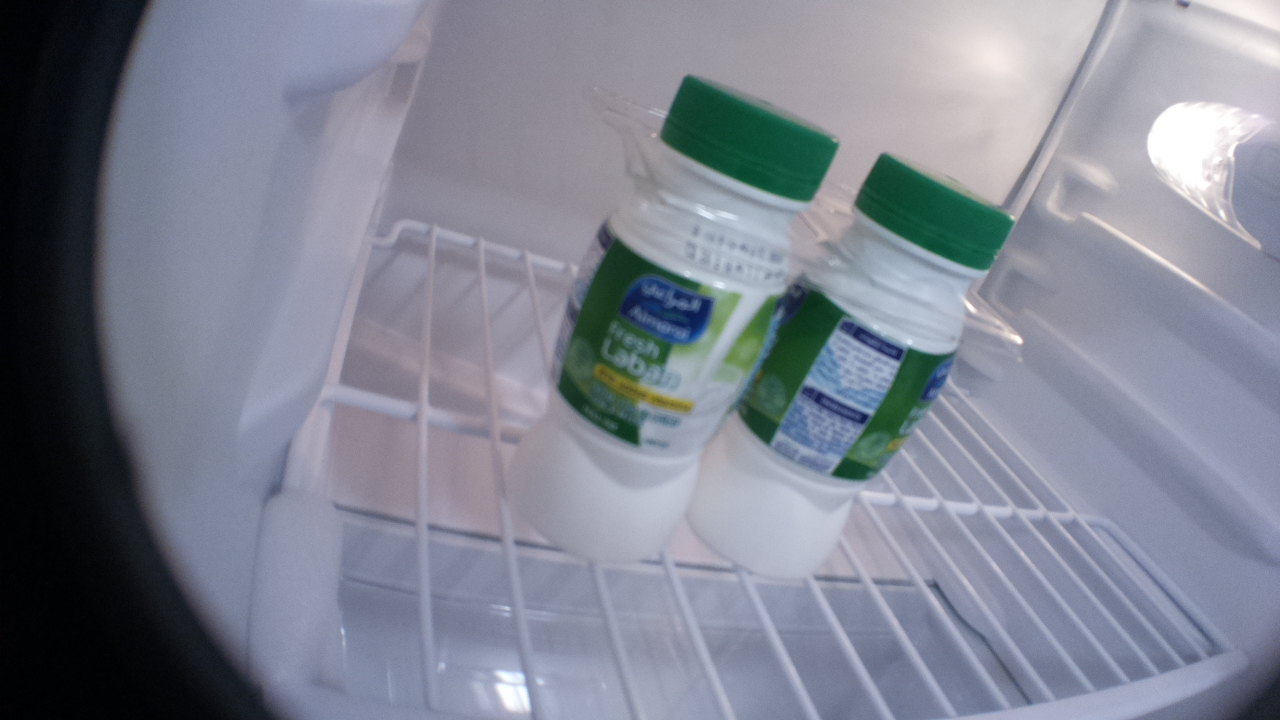laban: (506, 67, 839, 570), (678, 151, 1017, 579)
